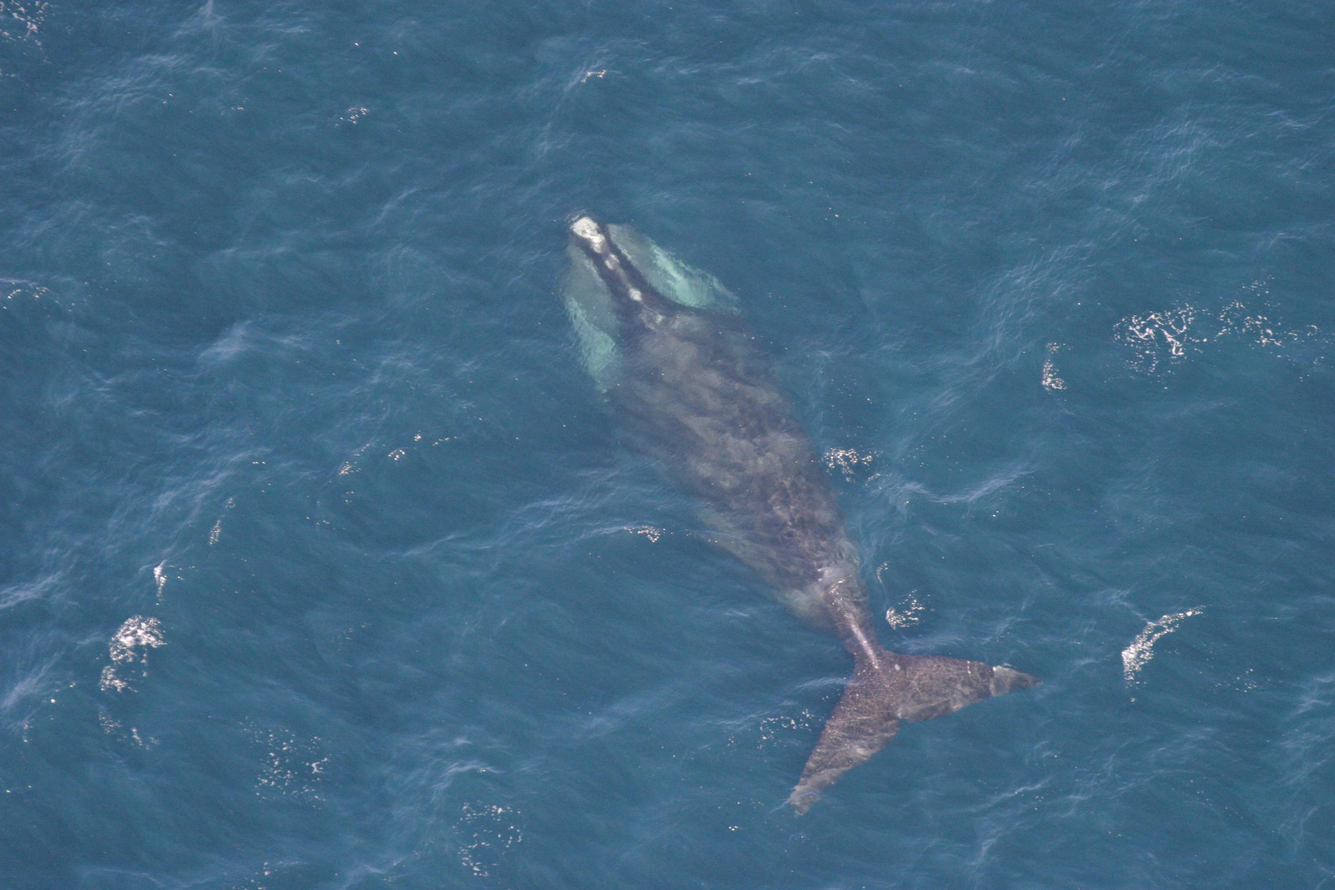whale: (546, 190, 1043, 824)
